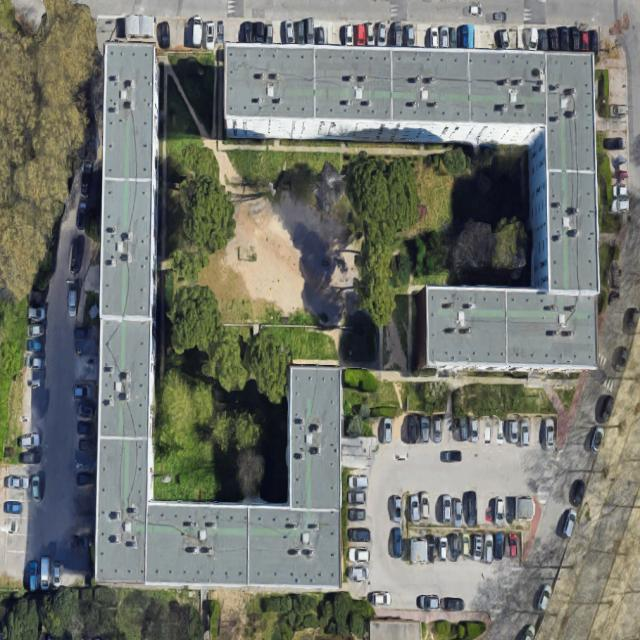immeuble: (96, 43, 342, 589), (220, 45, 604, 373)
